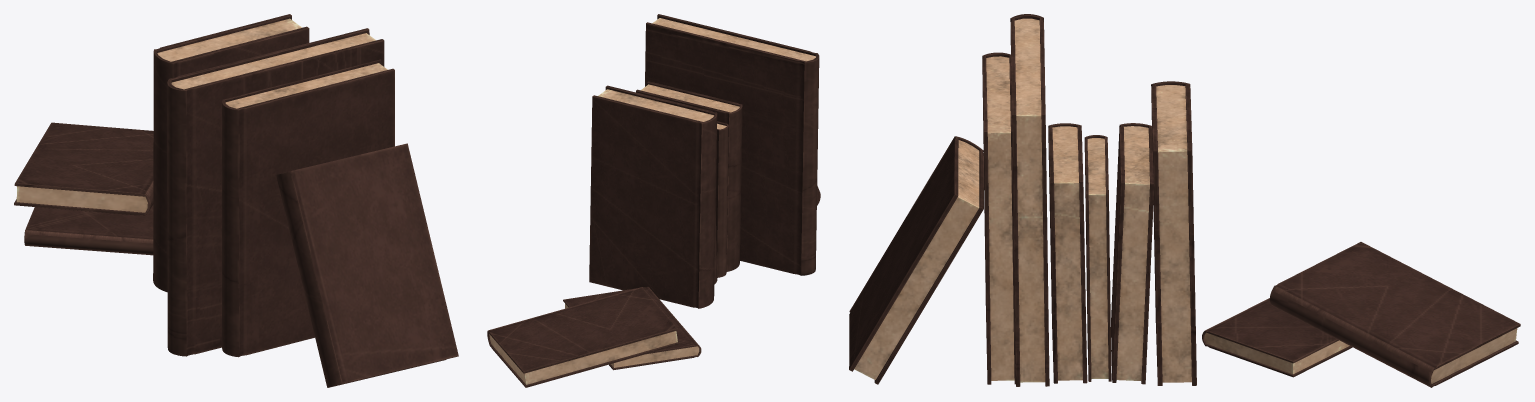
File: books_skin.fbx
3 renders of one model, left to right at view 1: azimuth 30°, elevation 25°; view 2: azimuth 150°, elevation 25°; view 3: azimuth 270°, elevation 25°, orthographic. The views are drawn at different scales.
Visible parts, largest first — view 1: polySurface42; view 2: polySurface42; view 3: polySurface42.
Boxes of the visible parts, bbox=[...] form: polySurface42: bbox=[14, 14, 458, 387]; polySurface42: bbox=[487, 14, 820, 387]; polySurface42: bbox=[849, 14, 1520, 387].
Size of the model in its own units: 141 by 170 by 376.
Materials: 2 (2 with a texture image).
